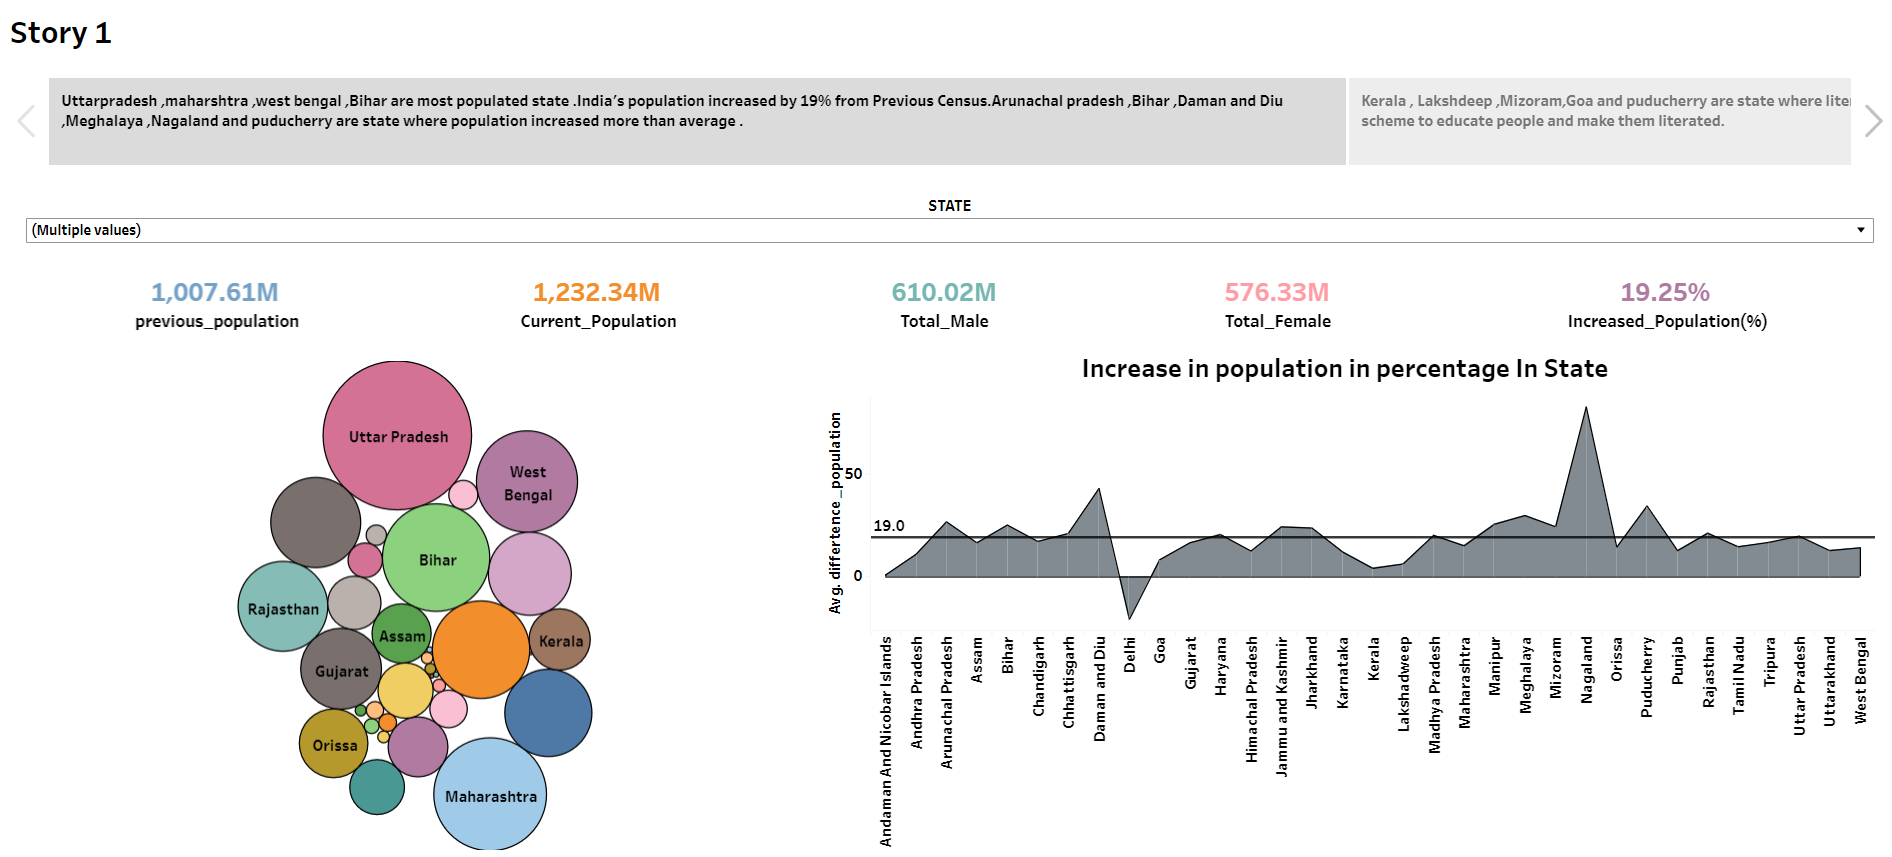

What the dashboard file says about the page in this screenshot:
{"tool":"tableau","page":{"name":"Population_Dashboard","canvas":[1000,1000],"units":"permille","ordinal":2},"visuals":[{"type":"filter","title":"statewisepopulation","param":"[federated.0mf94v00vrsod40zzekrg1021kdq].[none:State:nk]","box":[4.8,9.4,990.5,71.7]},{"type":"worksheet","title":"previous_population","mark":"Automatic","box":[4.8,97.5,206.8,131.6]},{"type":"worksheet","title":"population_count","mark":"Automatic","box":[211.6,97.5,199.6,131.6]},{"type":"worksheet","title":"male_count","mark":"Automatic","box":[411.2,97.5,170.6,131.6]},{"type":"worksheet","title":"Female_count","mark":"Automatic","box":[581.7,97.5,184.5,131.6]},{"type":"worksheet","title":"incleaseinpopulation ","mark":"Automatic","box":[766.2,97.5,229.1,131.6]},{"type":"worksheet","title":"statewisepopulation","mark":"Circle","box":[4.8,229.1,420.9,761.5]},{"type":"worksheet","title":"previPop vs CurrPOP","mark":"Area","rows":["Calculation_998110295587348486"],"cols":["State"],"box":[425.7,229.1,569.6,761.5]}]}

Visuals, with their boxes on the dashboard's canvas, which has no fixed pixel size, in thousandths of its width and height (x1, y1, x2, y2). These are canvas units, not pixel positions in the 1892x857 screenshot, which may show the page scaled, cropped or inside an application window:
"statewisepopulation" filter: bbox(5, 9, 995, 81)
"previous_population" worksheet: bbox(5, 98, 212, 229)
"population_count" worksheet: bbox(212, 98, 411, 229)
"male_count" worksheet: bbox(411, 98, 582, 229)
"Female_count" worksheet: bbox(582, 98, 766, 229)
"incleaseinpopulation " worksheet: bbox(766, 98, 995, 229)
"statewisepopulation" worksheet (Circle marks): bbox(5, 229, 426, 991)
"previPop vs CurrPOP" worksheet (Area marks): bbox(426, 229, 995, 991)
